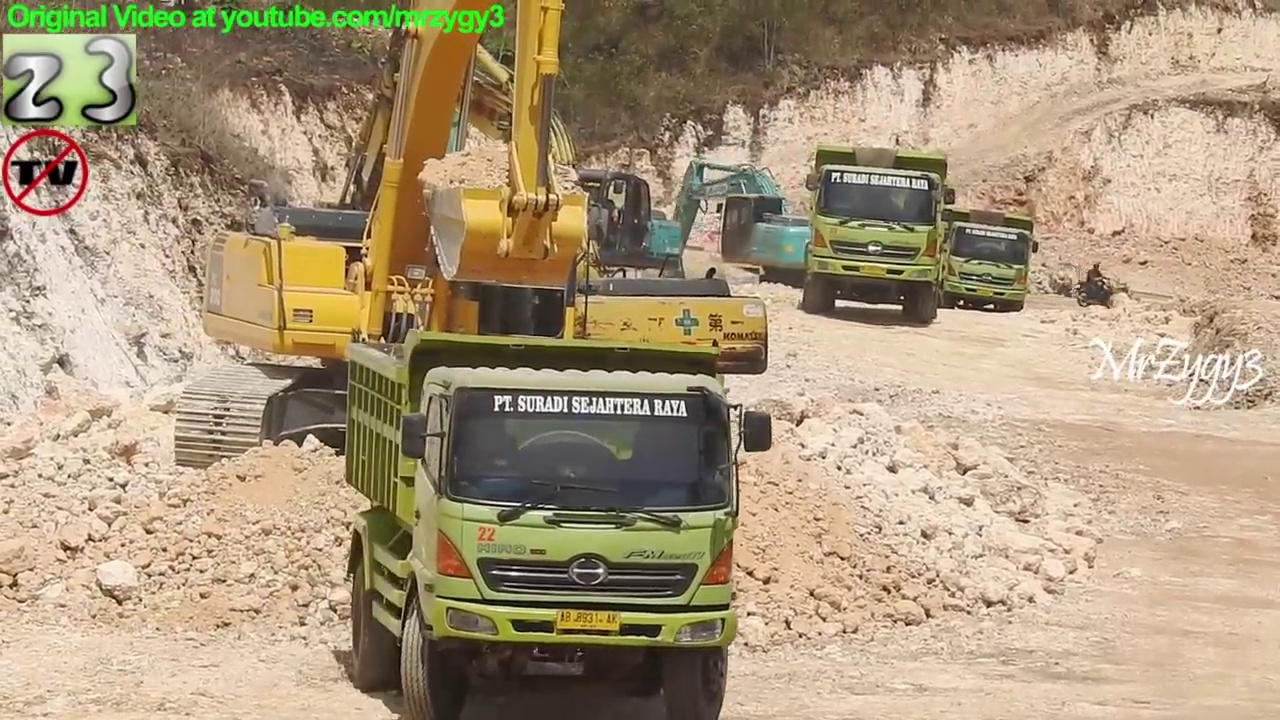excavator: (160, 1, 633, 483), (290, 1, 772, 424), (374, 1, 700, 298), (640, 152, 855, 293)
truck: (336, 323, 778, 720), (796, 143, 961, 327), (930, 198, 1044, 317)
